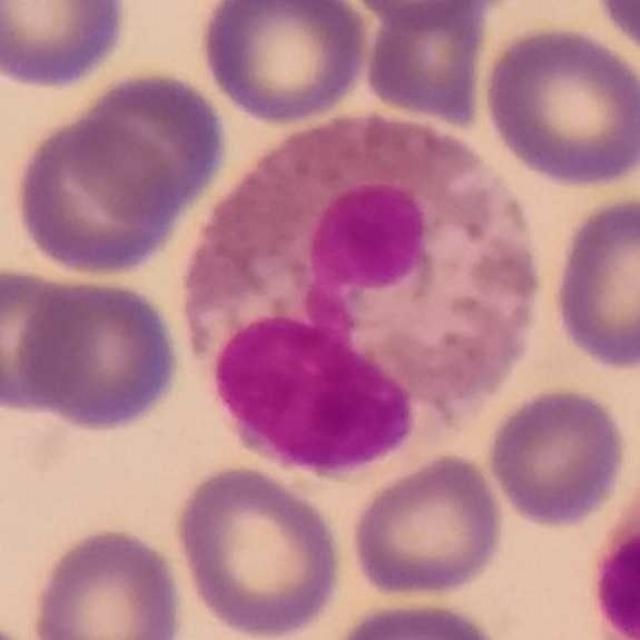eosino: (181, 106, 540, 486)
